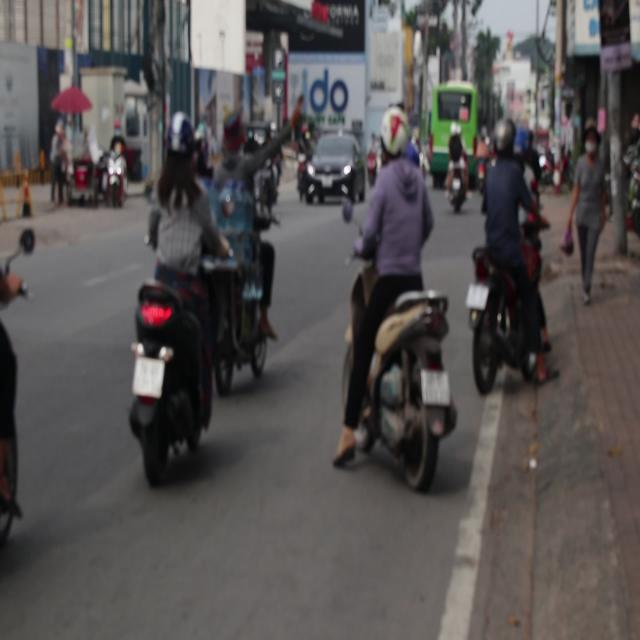bus: (428, 82, 478, 178)
car: (300, 133, 362, 200)
motorbike: (347, 283, 458, 491), (129, 274, 214, 486), (466, 240, 550, 422), (199, 248, 295, 383), (0, 254, 26, 502), (445, 158, 472, 218), (288, 147, 313, 201), (111, 148, 128, 212)
